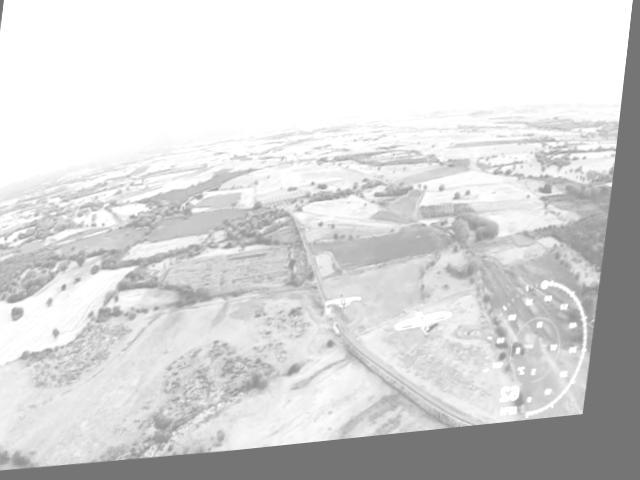hedef: (391, 305, 467, 358)
